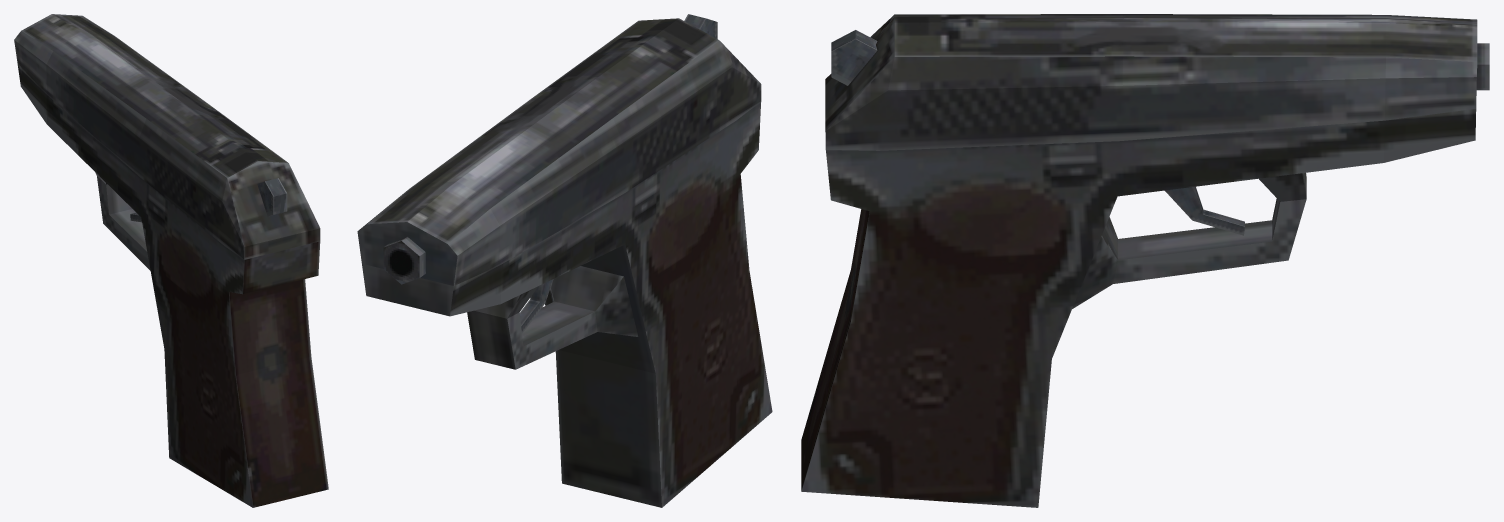
File: makarov_PM.glb
The picture shows the model from 3 angles, left to right: view 1: azimuth 30°, elevation 25°; view 2: azimuth 150°, elevation 25°; view 3: azimuth 270°, elevation 25°; orthographic projection. The views are drawn at different scales.
Parts seen in each view (by area): view 1: body, slide, chamber_trigger; view 2: body, slide, tube_chamber, trigger; view 3: body, slide, chamber_trigger, trigger.
Part boxes in pixels (left/top/right/bottom): body: left=17, top=64, right=328, bottom=507; slide: left=14, top=14, right=320, bottom=259; chamber_trigger: left=257, top=178, right=287, bottom=216; body: left=362, top=101, right=772, bottom=507; slide: left=357, top=18, right=761, bottom=285; tube_chamber: left=383, top=236, right=425, bottom=284; trigger: left=519, top=279, right=553, bottom=333; body: left=801, top=109, right=1476, bottom=507; slide: left=825, top=14, right=1477, bottom=150; chamber_trigger: left=831, top=30, right=877, bottom=85; trigger: left=1165, top=186, right=1244, bottom=235.
Bounding box in the file's own units: 0.06 × 0.2456 × 0.3331.
5 materials, 5 textured.
